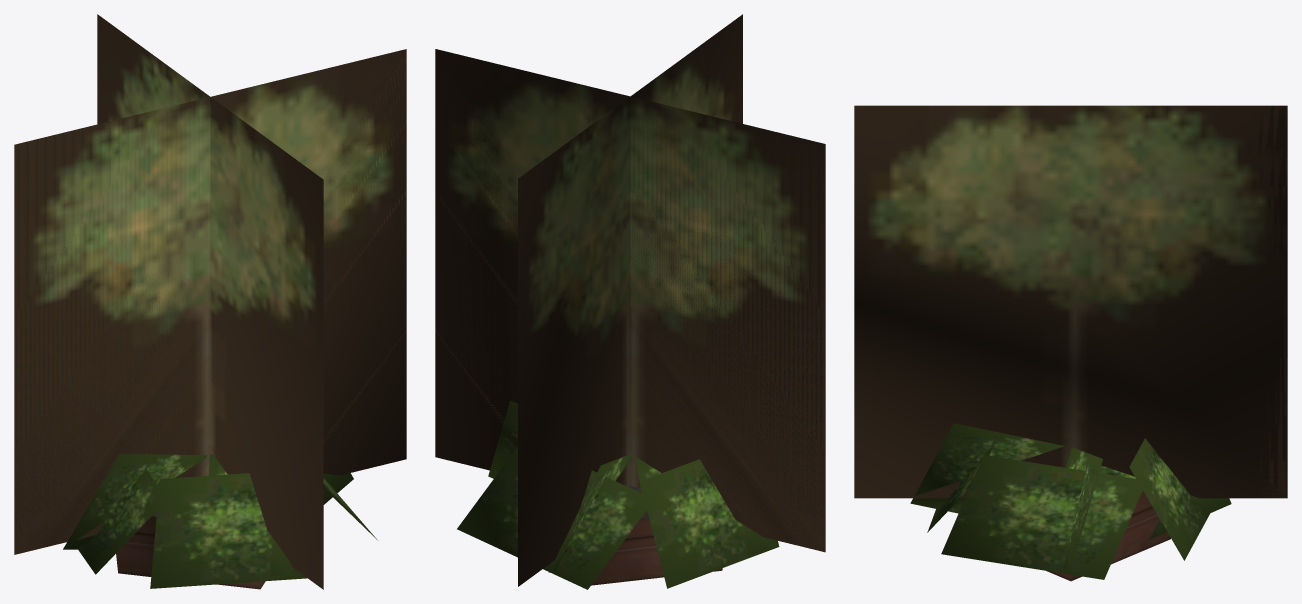
The model's file is mun_all_imprv_planter_s01_l3.fbx.
The picture shows the model from 3 angles, left to right: view 1: azimuth 30°, elevation 25°; view 2: azimuth 150°, elevation 25°; view 3: azimuth 270°, elevation 25°; orthographic projection. The views are drawn at different scales.
Parts seen in each view (by area): view 1: mesh_node; view 2: mesh_node; view 3: mesh_node.
Part boxes in pixels (x1,y1,x2,y2): mesh_node: [14, 14, 406, 589]; mesh_node: [435, 14, 825, 589]; mesh_node: [854, 105, 1287, 581].
Bounding box in the file's own units: 6.52 × 7.24 × 6.52.
